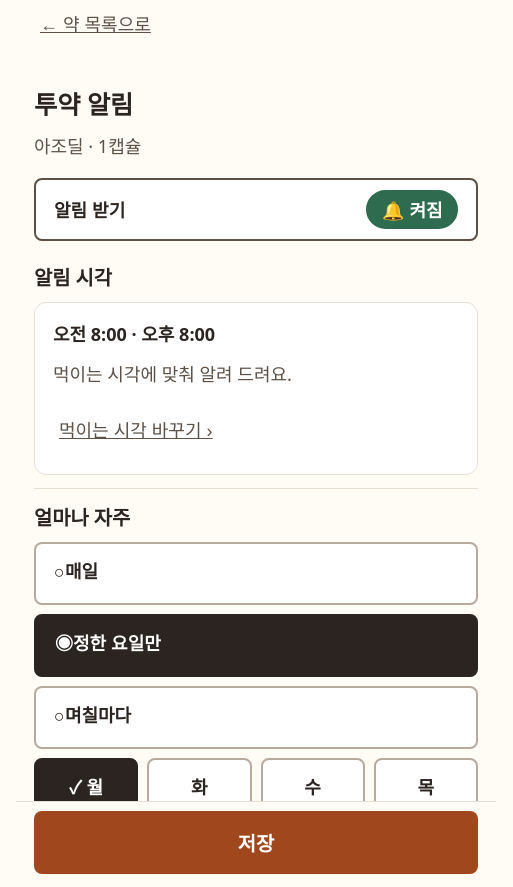
it: 알림 설정 — 저장 › 요일을 하나도 안 고르면 저장하지 않고 안내한다
The image size is (513, 887).
Click the button named "월요일" at (86,789), box [34,758,138,821]
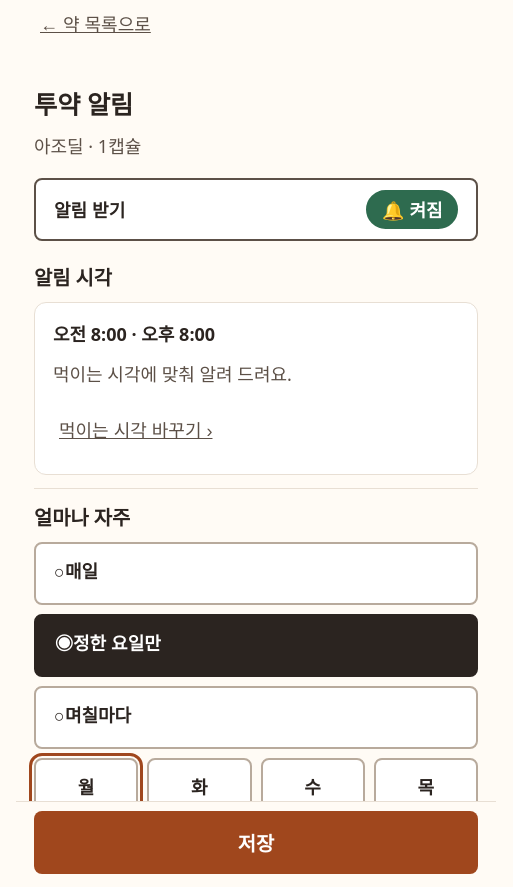
Click the button "저장" at (256,842), box [34,810,478,874]
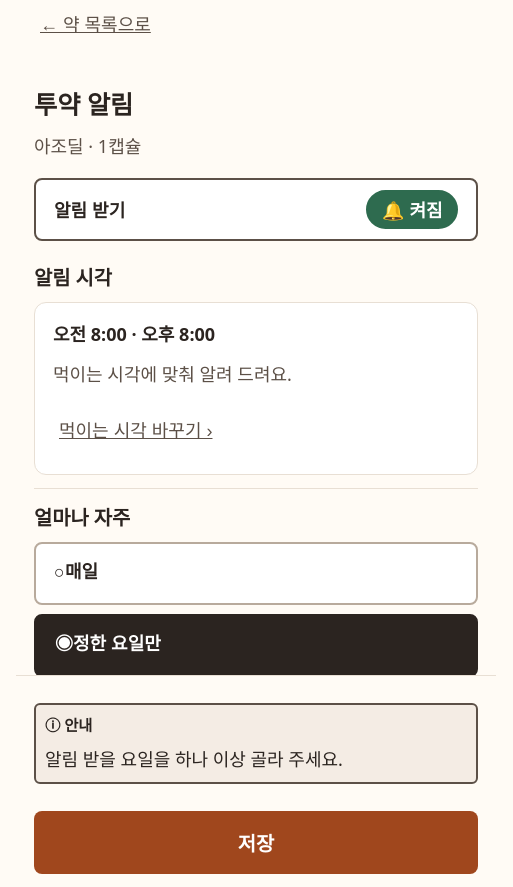
Check: the text "알림 받을 요일을 하나 이상 골라 주세요." is shown 2 times
